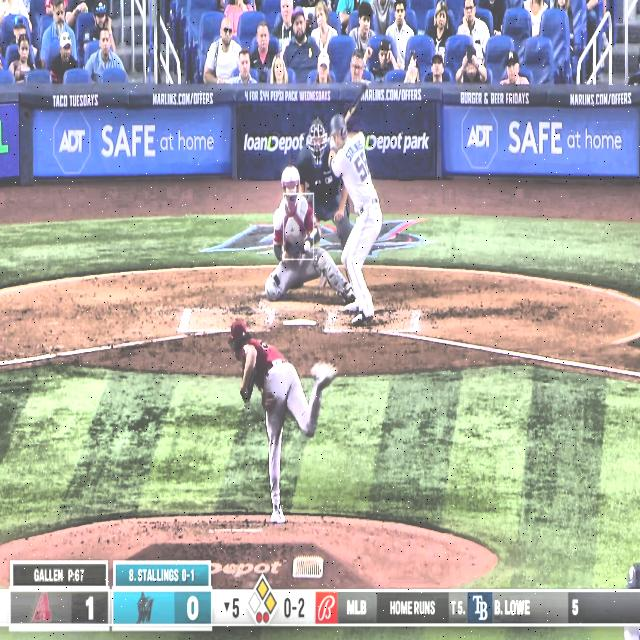baseball: (303, 240, 311, 253)
